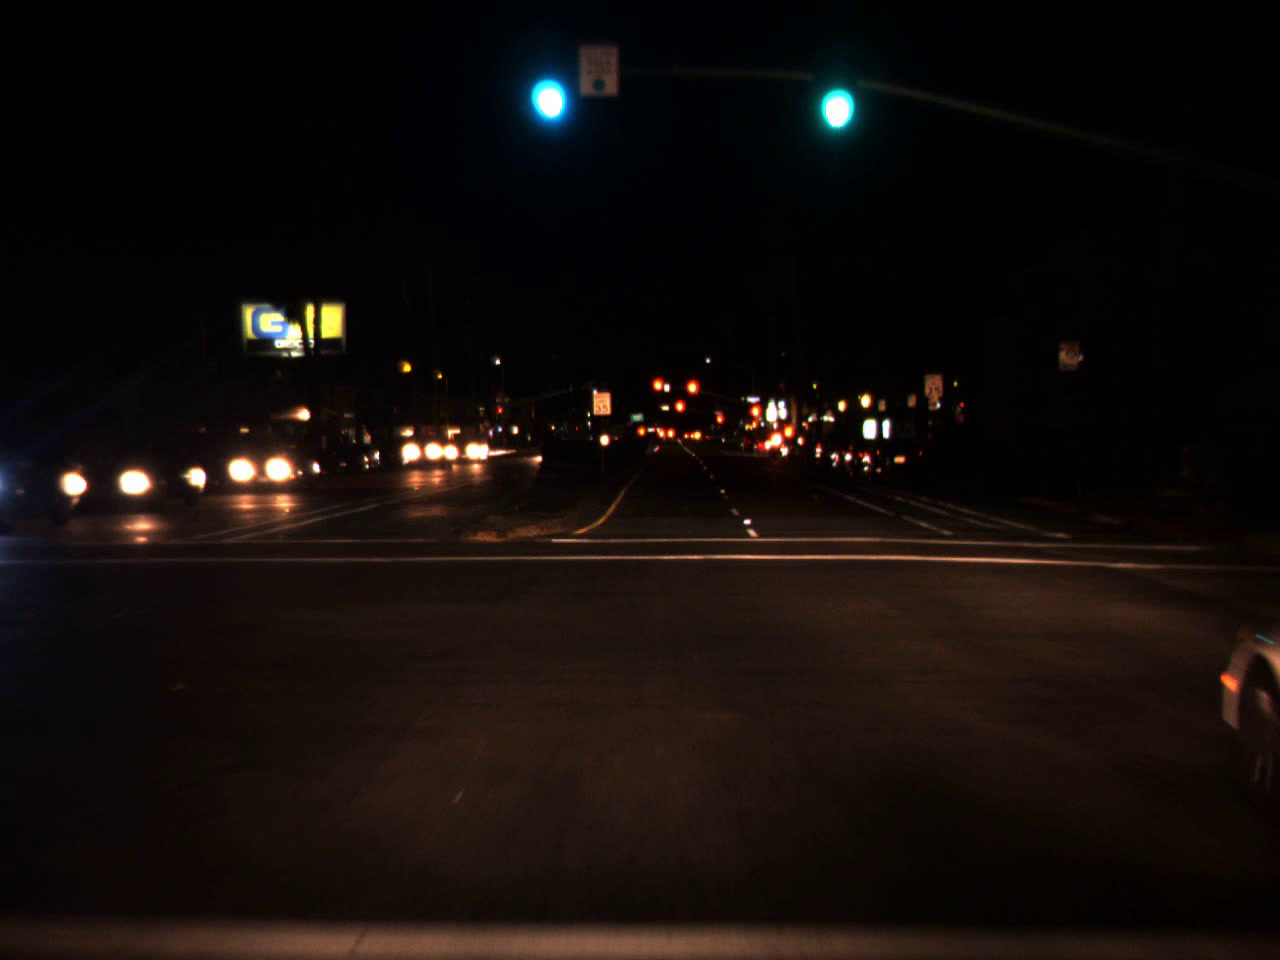go: (811, 53, 856, 140), (526, 51, 569, 129)
stop: (747, 400, 763, 437), (684, 377, 700, 412), (651, 376, 666, 405), (673, 398, 686, 427), (715, 411, 722, 435), (497, 407, 503, 417)
